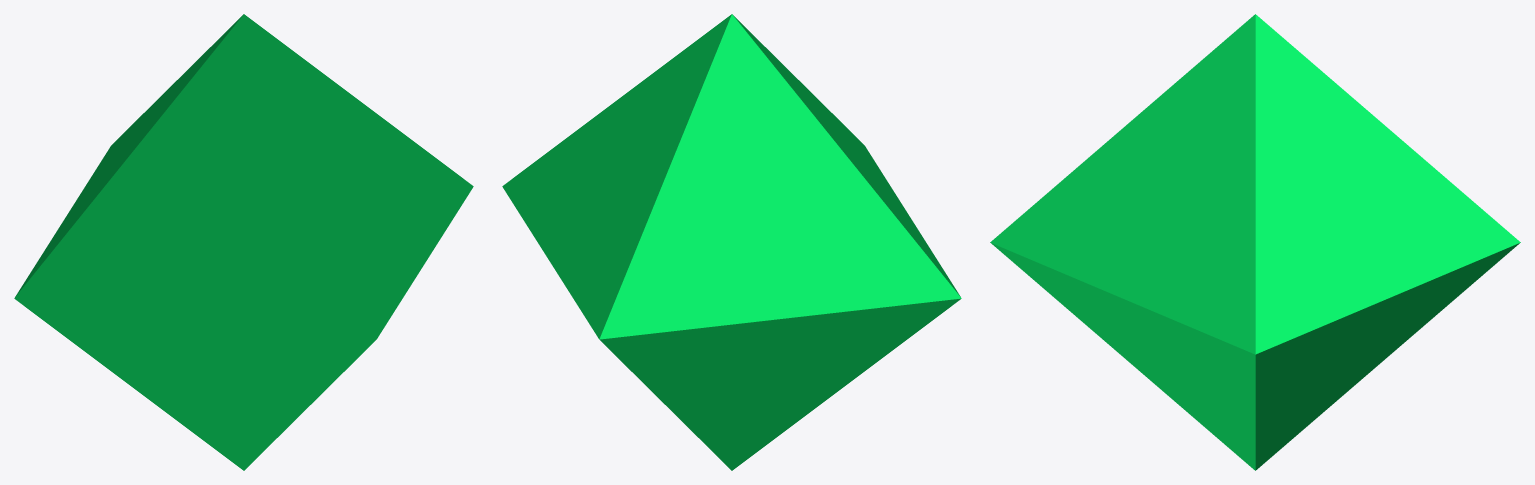
File: Seednote.glb
The picture shows the model from 3 angles, left to right: view 1: azimuth 30°, elevation 25°; view 2: azimuth 150°, elevation 25°; view 3: azimuth 270°, elevation 25°; orthographic projection.
Parts seen in each view (by area): view 1: NoteBase; view 2: NoteBase; view 3: NoteBase.
Boxes of the visible parts, x1=… form: NoteBase: x1=14, y1=14, x2=473, y2=470; NoteBase: x1=502, y1=14, x2=961, y2=470; NoteBase: x1=990, y1=14, x2=1520, y2=470.
Bounding box in the file's own units: 1.41 × 1.34 × 1.41.
